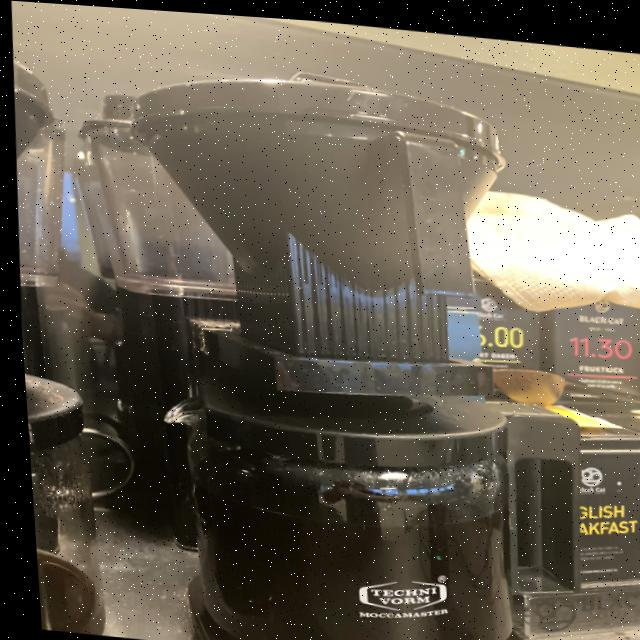coffee: (147, 328, 552, 640), (18, 349, 133, 637)
